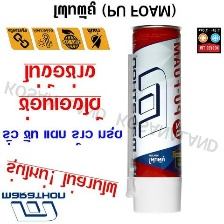aerosol_cans: (125, 19, 184, 217)
